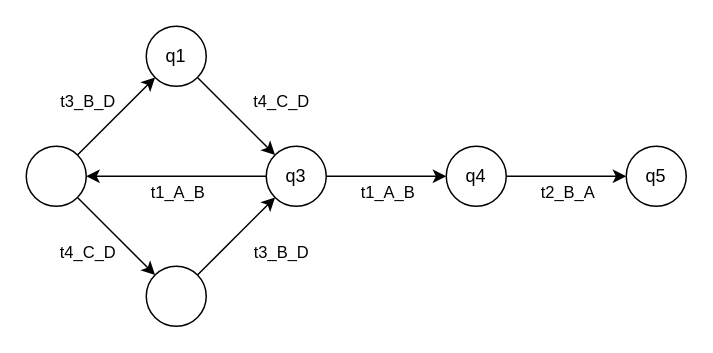
The diagram is 713 pixels wide and 353 high, and some of its shapes have lost their labels. The centre of each missing label's shape, as x and y in pixels:
q0: point 55,175
q2: point 175,295
